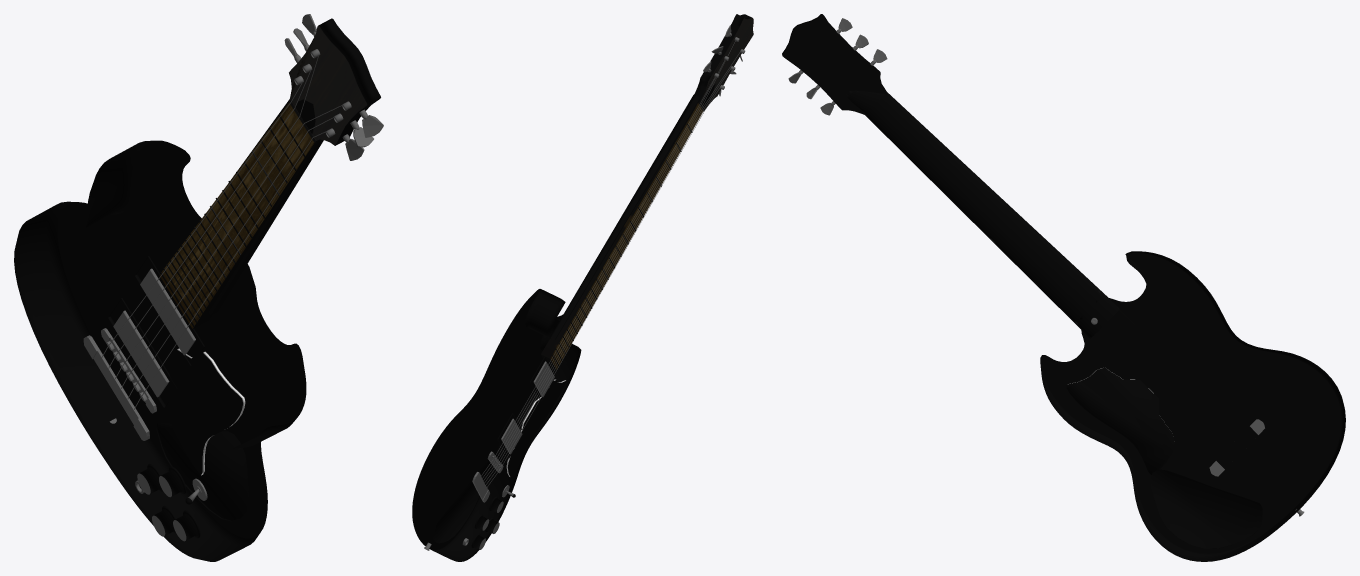
Rendered from Electric_guitar.glb.
The picture shows the model from 3 angles, left to right: view 1: azimuth 30°, elevation 25°; view 2: azimuth 150°, elevation 25°; view 3: azimuth 270°, elevation 25°; orthographic projection. The views are drawn at different scales.
Parts seen in each view (by area): view 1: Corps, Manche.002, object 10, Boutons, Corde_Sol, object 5, Corde_Si, Corde_La; view 2: Corps, Manche.002, object 10, Corde_Sol, object 5, Corde_Si, Corde_La, Corde_Mi, Corde_Mi_Grave; view 3: Corps, Manche.002, Boutons.
Boxes of the visible parts, x1,y1,x2,y2 form: Corps: [14, 140, 306, 561]; Manche.002: [159, 18, 380, 328]; object 10: [137, 464, 207, 541]; Boutons: [284, 14, 383, 160]; Corde_Sol: [115, 56, 318, 378]; object 5: [121, 105, 341, 388]; Corde_Si: [108, 71, 310, 368]; Corde_La: [127, 117, 333, 399]; Corps: [412, 289, 581, 561]; Manche.002: [541, 14, 753, 369]; object 10: [471, 485, 515, 549]; Corde_Sol: [483, 41, 735, 480]; object 5: [484, 51, 740, 482]; Corde_Si: [482, 60, 724, 478]; Corde_La: [486, 68, 730, 484]; Corde_Mi: [481, 77, 714, 476]; Corde_Mi_Grave: [487, 87, 720, 487]; Corps: [1040, 251, 1345, 561]; Manche.002: [782, 14, 1134, 352]; Boutons: [788, 18, 887, 115].
Bounding box in the file's own units: 63.15 × 214 × 223.
Materials: 5 (1 with a texture image).
